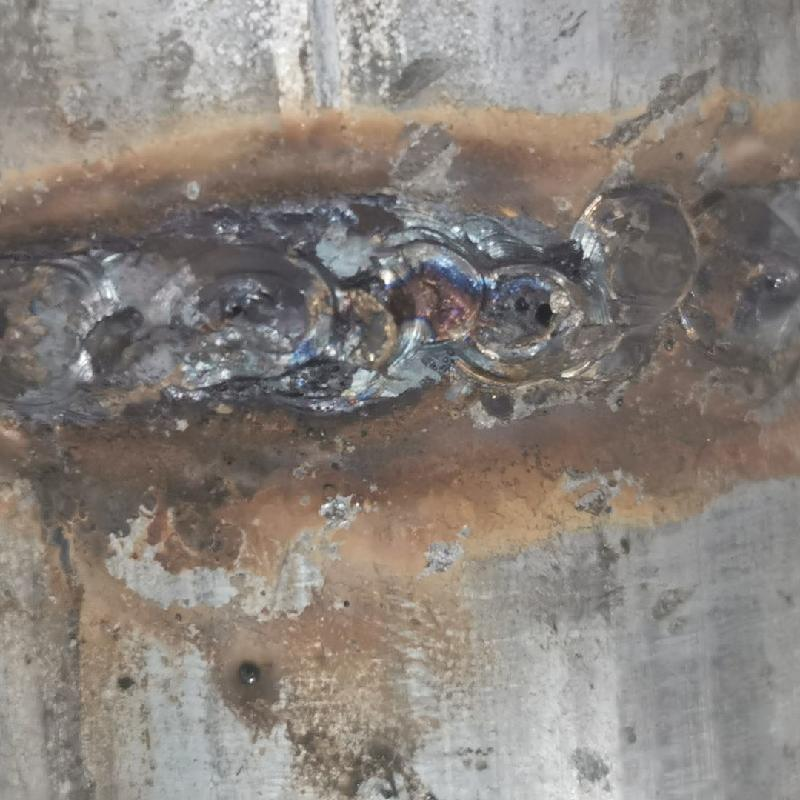Surface_pores: (507, 284, 566, 340)
crater: (201, 205, 586, 400)
wrong_size: (578, 161, 799, 379), (2, 240, 201, 442)
